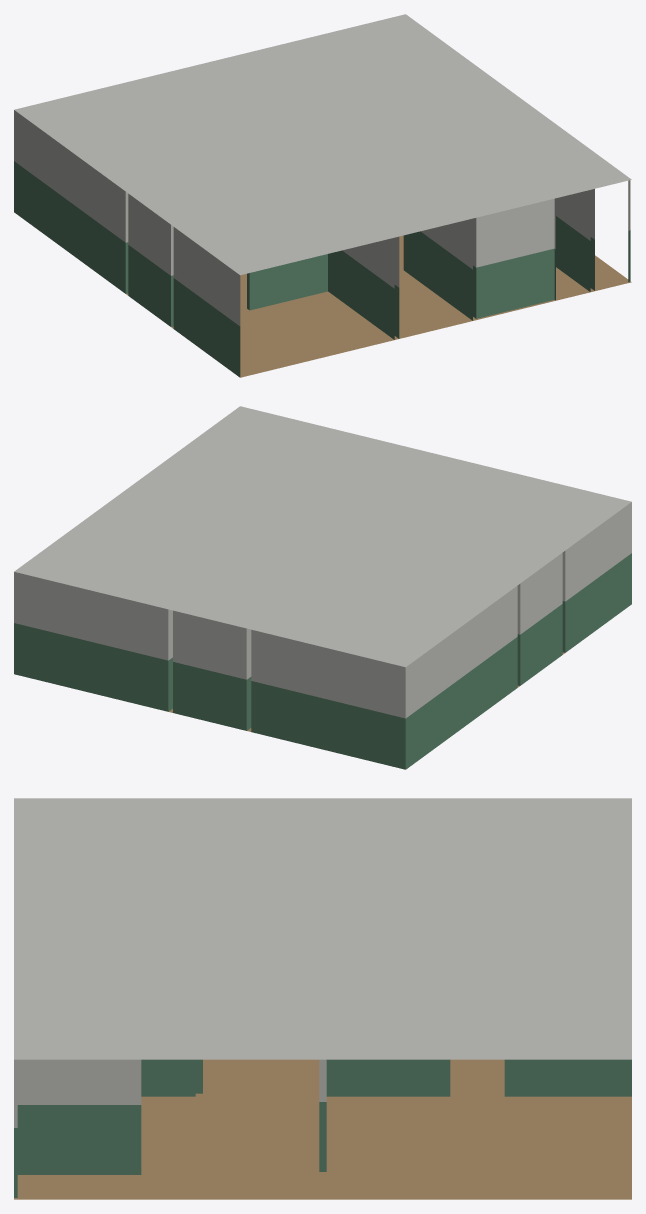
The model's file is chunk_0_0.glb.
The picture shows the model from 3 angles, top to bottom: view 1: azimuth 30°, elevation 25°; view 2: azimuth 150°, elevation 25°; view 3: azimuth 270°, elevation 25°; orthographic projection. The views are drawn at different scales.
Parts seen in each view (by area): view 1: chunk_0_0; view 2: chunk_0_0; view 3: chunk_0_0.
Part boxes in pixels (box(x1,y1,x2,y2)): chunk_0_0: box(14, 14, 631, 377); chunk_0_0: box(14, 406, 631, 769); chunk_0_0: box(14, 798, 631, 1199).
Bounding box in the file's own units: 12 × 3 × 12.
